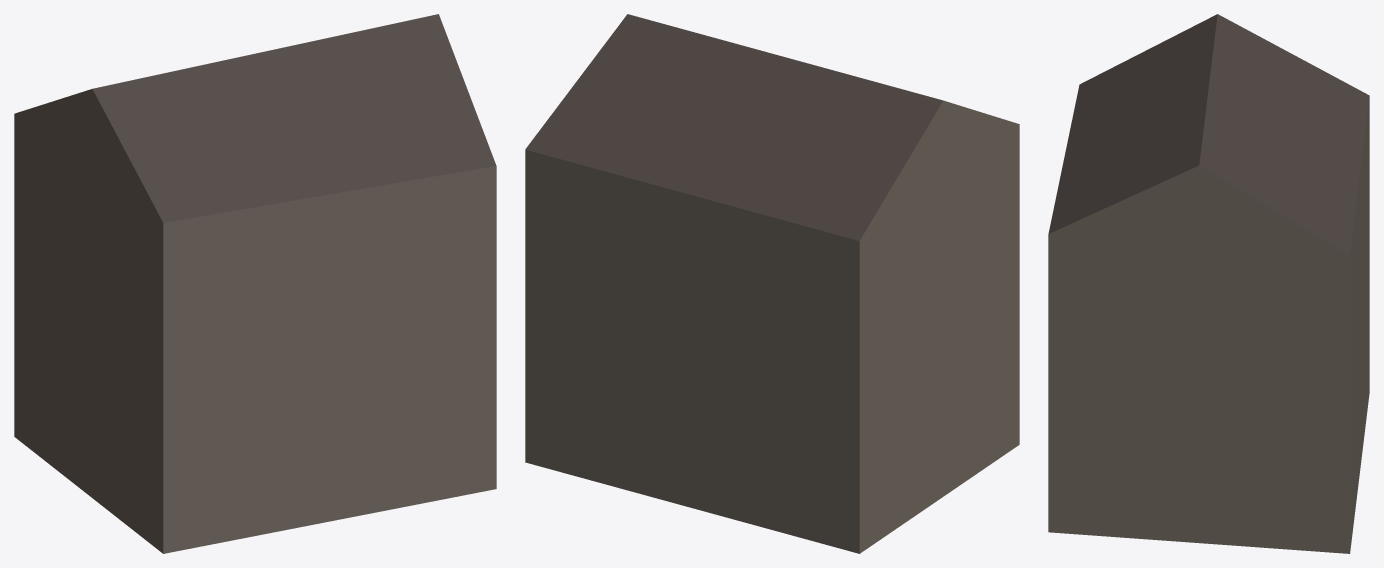
The picture shows the model from 3 angles, left to right: view 1: azimuth 30°, elevation 25°; view 2: azimuth 150°, elevation 25°; view 3: azimuth 270°, elevation 25°; orthographic projection. The views are drawn at different scales.
Visible parts, largest first — view 1: HP-w1515071154; view 2: HP-w1515071154; view 3: HP-w1515071154.
Part boxes in pixels (x1,y1,x2,y2): HP-w1515071154: (14, 14, 496, 553); HP-w1515071154: (525, 14, 1019, 553); HP-w1515071154: (1048, 14, 1369, 553).
Size of the model in its own units: 7.08 by 7.6 by 5.85.
